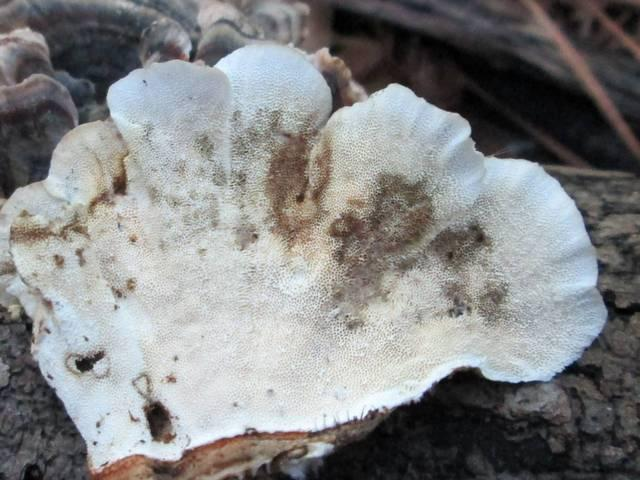Non-edible Mushroom: (0, 39, 608, 479)
